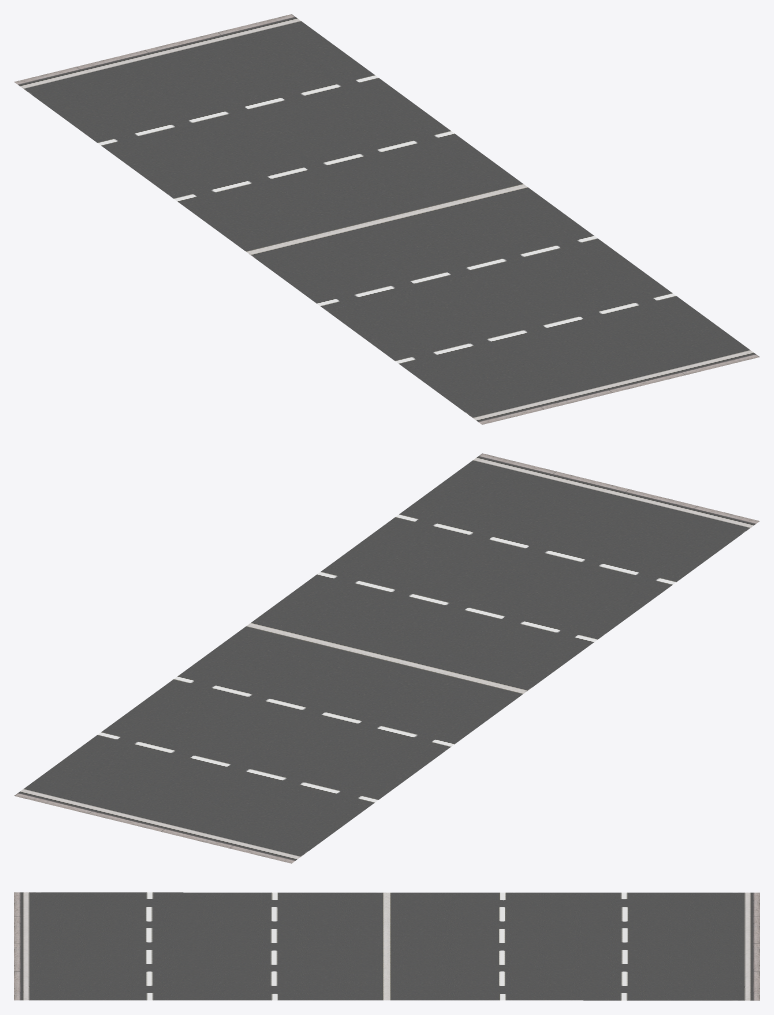
Rendered from 6 lines.FBX.
The picture shows the model from 3 angles, top to bottom: view 1: azimuth 30°, elevation 25°; view 2: azimuth 150°, elevation 25°; view 3: azimuth 270°, elevation 25°; orthographic projection. The views are drawn at different scales.
Visible parts, largest first — view 1: Object199; view 2: Object199; view 3: Object199.
Part boxes in pixels (<box>): Object199: <box>14,14,759,424</box>; Object199: <box>14,453,759,863</box>; Object199: <box>14,892,759,1000</box>.
Bounding box in the file's own units: 12.02 × 9.94e-15 × 35.09.
